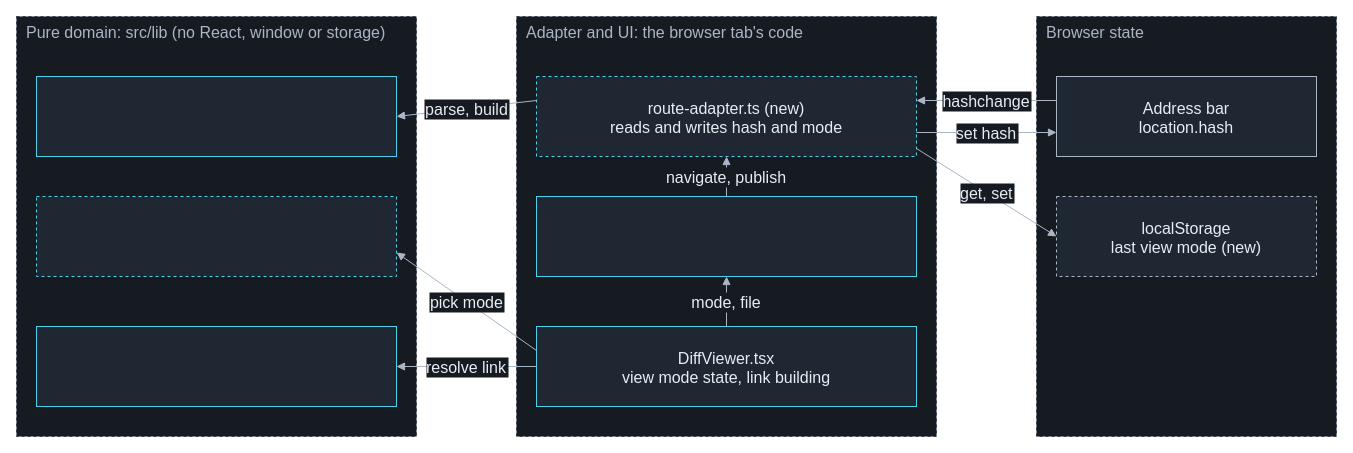
Image size: 1353x453. Some labels were removed from this diagram. Here are the shapes that lost their labels. From the top down, the centre of each, then its label:
At [216,116]: "hash-router.ts parseRoute, buildRoute".
At [216,236]: "view-mode.ts (new) pickMode, mode tokens".
At [726,236]: "app-context.tsx navigateToHash, open PR and file".
At [216,366]: "link-handler.ts, review-links.ts classifyLink, resolveReviewLink".
